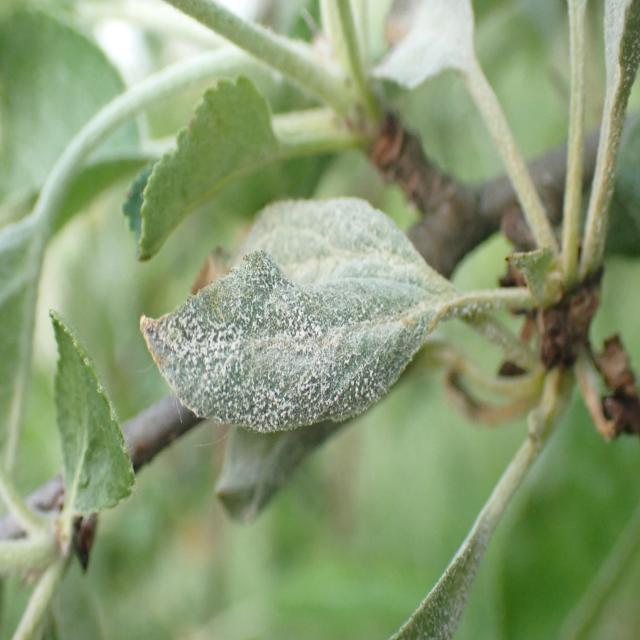Powdery_mildew: (222, 183, 468, 529), (130, 247, 536, 438), (366, 4, 516, 180)
